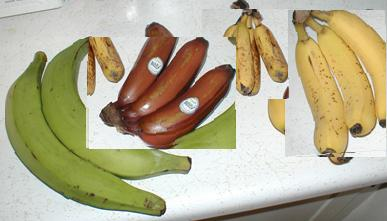Banana Fresh: (286, 11, 387, 158)
Banana Rotten: (89, 37, 236, 149)
Banana Semifresh: (6, 39, 92, 211)
Banana Semirotten: (202, 9, 288, 99)
